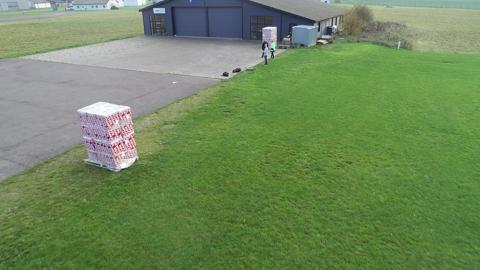RockwoolPallet: (77, 101, 138, 171)
